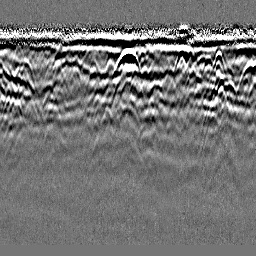cavity: (110, 47, 142, 82)
